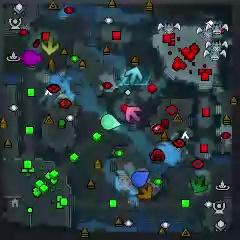p1: (132, 171, 149, 188)
p2: (101, 113, 121, 130)
p3: (22, 51, 43, 66)
x1: (126, 106, 141, 122)
x2: (40, 36, 60, 54)
x3: (125, 67, 143, 86)
x4: (191, 175, 207, 192)
x5: (136, 183, 153, 201)
